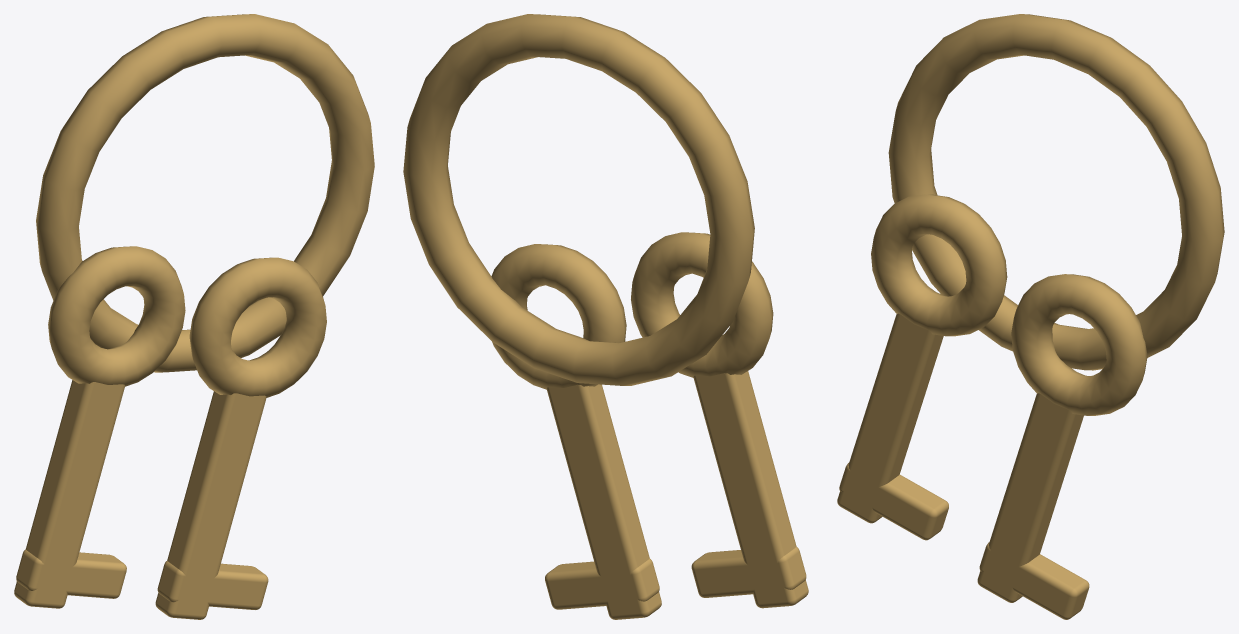
File: keys.glb
The picture shows the model from 3 angles, left to right: view 1: azimuth 30°, elevation 25°; view 2: azimuth 150°, elevation 25°; view 3: azimuth 330°, elevation 25°; orthographic projection. The views are drawn at different scales.
Visible parts, largest first — view 1: keyring, key-bow (×2), key-shaft (×2), key-tooth (×2); view 2: keyring, key-shaft (×2), key-bow (×2), key-tooth (×2); view 3: keyring, key-bow (×2), key-shaft (×2), key-tooth (×2).
Boxes of the visible parts, x1,y1,x2,y2 form: keyring: (36, 14, 374, 372); key-bow (×2): (48, 246, 326, 397); key-shaft (×2): (14, 380, 266, 619); key-tooth (×2): (16, 549, 268, 609); keyring: (403, 14, 754, 385); key-shaft (×2): (547, 371, 808, 619); key-bow (×2): (491, 232, 773, 389); key-tooth (×2): (545, 547, 806, 609); keyring: (888, 14, 1224, 370); key-bow (×2): (871, 194, 1147, 415); key-shaft (×2): (837, 313, 1083, 602); key-tooth (×2): (839, 463, 1089, 619).
Bounding box in the file's own units: 0.4962 × 0.7533 × 0.086.
